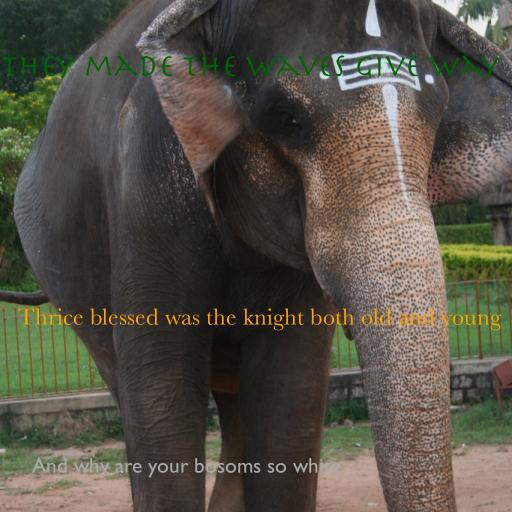Baskerville: (17, 308, 501, 331)
Gill Sans: (31, 458, 341, 478)
Herculanum: (1, 55, 499, 79)
